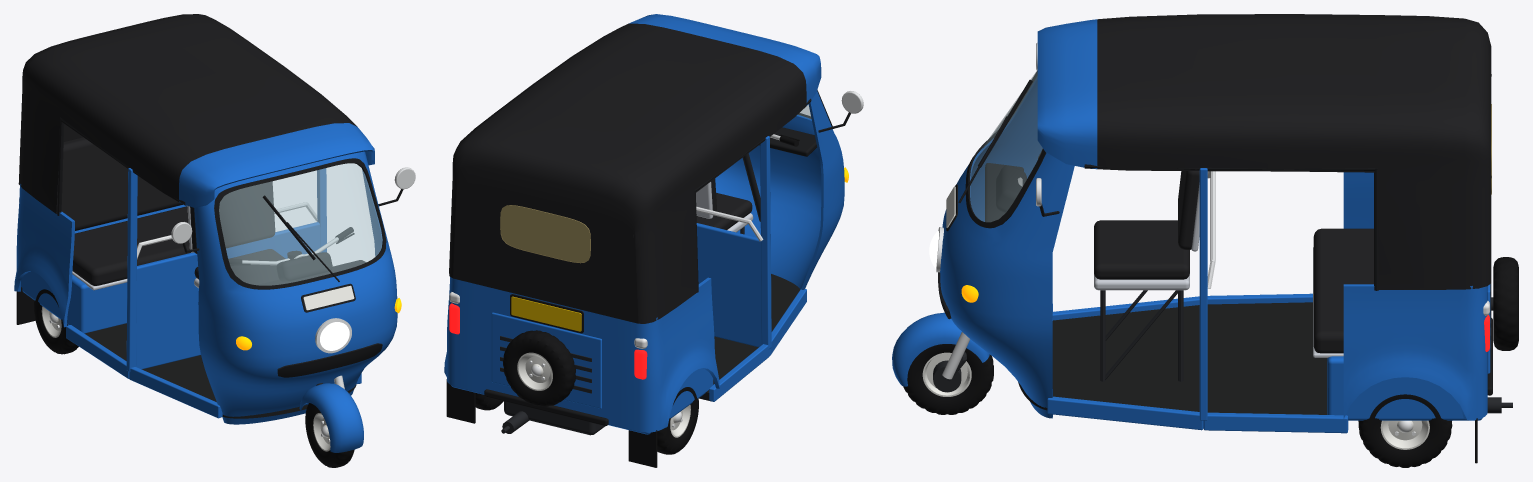
The model's file is bajaj_blue.glb.
3 views of the same model, side by side, from view 1: azimuth 30°, elevation 25°; view 2: azimuth 150°, elevation 25°; view 3: azimuth 270°, elevation 25° (orthographic). The views are drawn at different scales.
Parts seen in each view (by area): view 1: Body, Steering, Wheel_F, Wheel_RL, Plate_Front; view 2: Body, Wheel_RL, Plate_Rear, Steering; view 3: Body, Wheel_RR, Wheel_F, Steering.
Boxes of the visible parts, left/top/right/bottom form: Body: left=14, top=14, right=415, bottom=424; Steering: left=228, top=227, right=363, bottom=452; Wheel_F: left=305, top=403, right=354, bottom=467; Wheel_RL: left=34, top=289, right=78, bottom=354; Plate_Front: left=303, top=285, right=354, bottom=310; Body: left=444, top=14, right=863, bottom=467; Wheel_RL: left=657, top=387, right=698, bottom=454; Plate_Rear: left=511, top=296, right=581, bottom=331; Steering: left=742, top=134, right=799, bottom=221; Body: left=929, top=14, right=1518, bottom=463; Wheel_RR: left=1358, top=394, right=1452, bottom=467; Wheel_F: left=903, top=344, right=993, bottom=414; Steering: left=892, top=149, right=1042, bottom=392.
Size of the model in its own units: 1.52 by 1.7 by 2.74.
